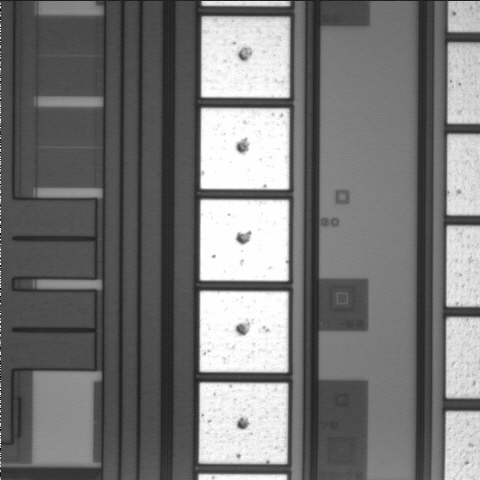pad: (200, 108, 289, 190), (200, 199, 289, 281), (201, 17, 290, 98), (199, 383, 288, 464), (200, 291, 288, 372)
